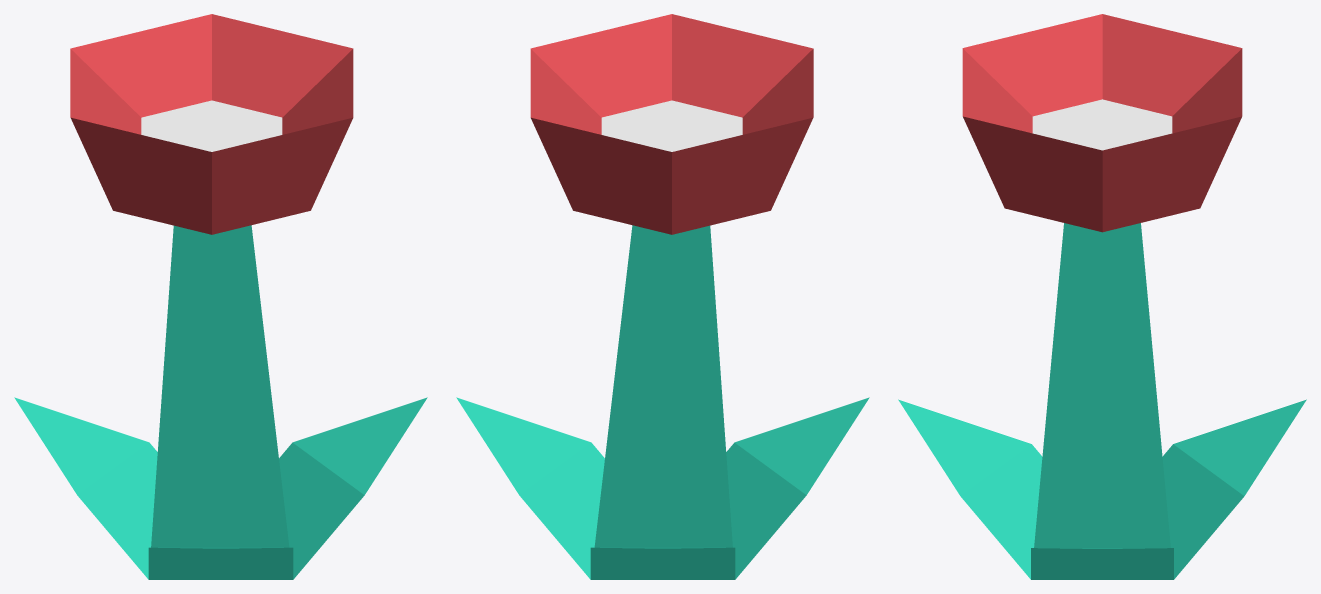
Rendered from flower_redC.obj.
3 renders of one model, left to right at view 1: azimuth 30°, elevation 25°; view 2: azimuth 150°, elevation 25°; view 3: azimuth 270°, elevation 25°, orthographic.
Visible parts, largest first — view 1: flower_redC; view 2: flower_redC; view 3: flower_redC.
Part boxes in pixels (x1=…): flower_redC: x1=14, y1=14, x2=427, y2=579; flower_redC: x1=456, y1=14, x2=869, y2=579; flower_redC: x1=898, y1=14, x2=1306, y2=579.
Bounding box in the file's own units: 0.1806 × 0.2325 × 0.1811.
